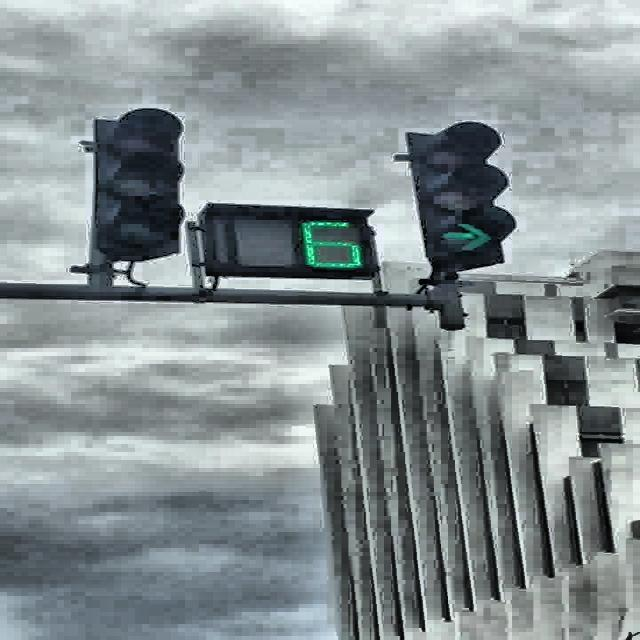green: (404, 123, 516, 266)
